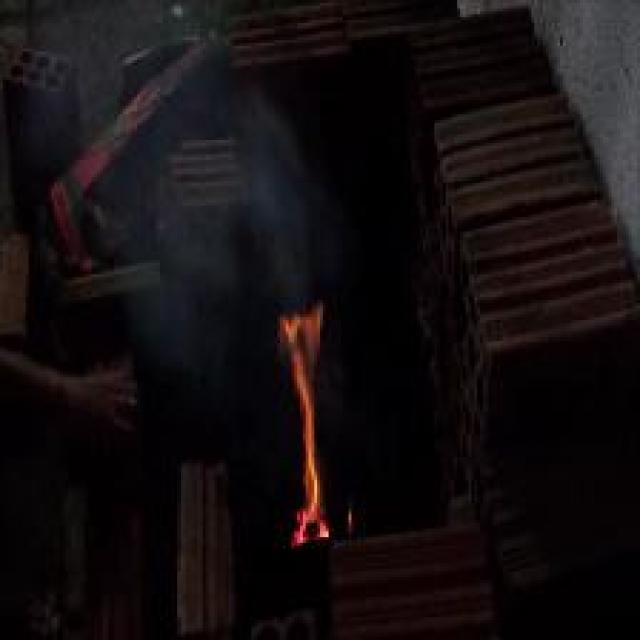Fire: (281, 302, 353, 544)
